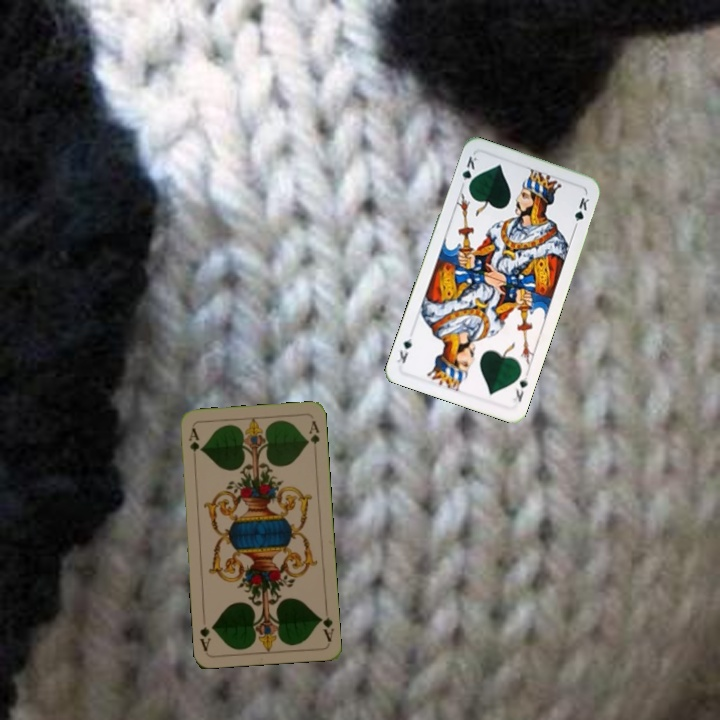GA: (315, 604, 336, 644), (185, 424, 203, 454)
GK: (458, 152, 481, 192), (509, 372, 530, 404)
